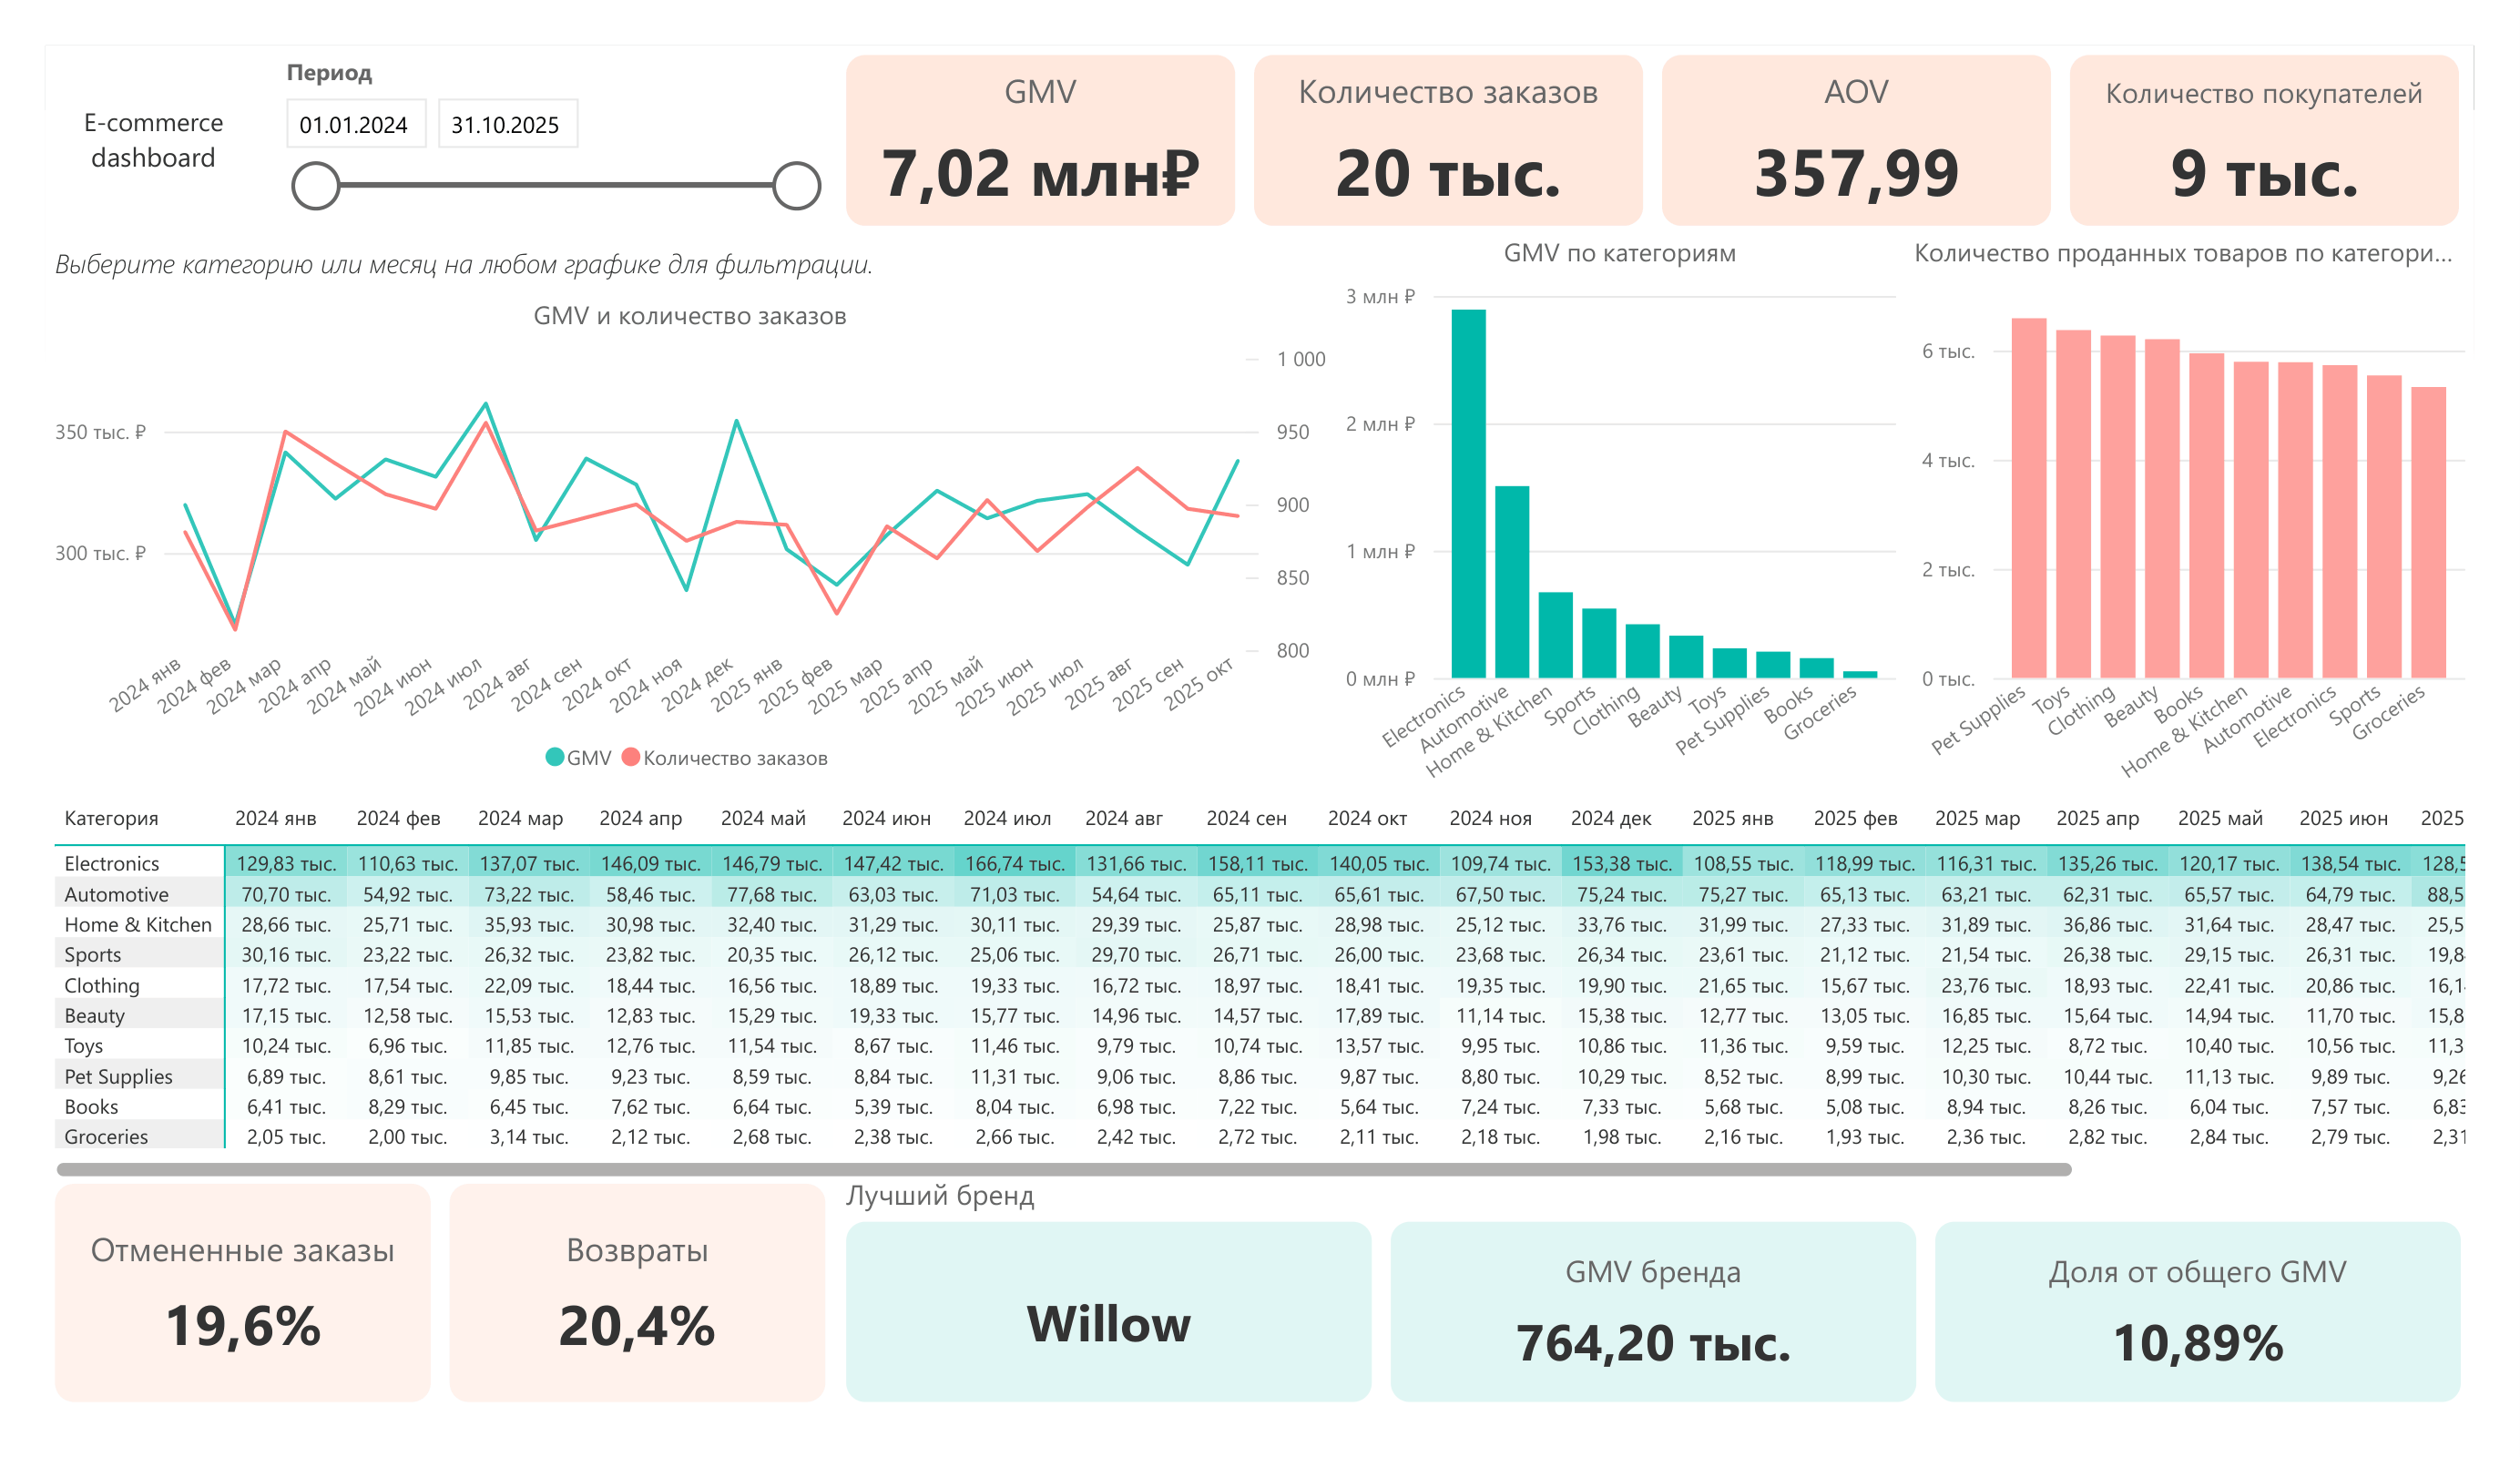

The page's visual inventory and layout, read from the dashboard file:
{"tool":"powerbi","page":{"name":"Dashboard","canvas":[1280,720],"ordinal":0},"visuals":[{"type":"cardVisual","fields":{"Data":["orders.GMV","orders.ORDERS","orders.AOV","products.AC"]},"box":[417,0,863.2,100.3],"z":0},{"type":"lineChart","title":"GMV и количество заказов","fields":{"Y2":["CountNonNull(orders.order_id)"],"Y":["orders.GMV"],"Category":["Calendar.YearMonth"]},"box":[0,127.8,680.2,264.9],"z":1000},{"type":"clusteredColumnChart","title":"GMV по категориям","fields":{"Category":["products.category"],"Y":["orders.GMV"]},"box":[680.2,100.3,300,300],"z":2000},{"type":"textbox","box":[0,25.2,113.9,50.5],"z":3000},{"type":"clusteredColumnChart","title":"Количество проданных товаров по категориям","fields":{"Category":["products.category"],"Y":["Sum(order_items.quantity)"]},"box":[980.2,100.3,300,300],"z":4000},{"type":"pivotTable","fields":{"Rows":["products.category"],"Values":["orders.GMV"],"Columns":["Calendar.YearMonth"]},"box":[0,392.7,1280.2,209.7],"z":5000},{"type":"slicer","fields":{"Values":["Calendar.Date"]},"box":[113.6,0,303.3,100.3],"z":6000},{"type":"cardVisual","fields":{"Data":["orders.Cancelled Orders","orders.Returned Orders"]},"box":[0,594.8,416.6,125.3],"z":7000},{"type":"textbox","box":[0,100.3,680.2,34.3],"z":8000},{"type":"cardVisual","title":"Лучший бренд","fields":{"Data":["products.Top Brand","products.Top Brand GMV","products.Top Brand Share"]},"box":[416.6,594.8,863.4,125.3],"z":9001}]}

Visuals, with their boxes on the page's 1280x720 design canvas (x1, y1, x2, y2). These are canvas units, not pixel positions in the 2520x1457 screenshot, which may show the page scaled, cropped or inside an application window:
cardVisual - orders.GMV x orders.ORDERS: BBox(417, 0, 1280, 100)
"GMV и количество заказов" lineChart: BBox(0, 128, 680, 393)
"GMV по категориям" clusteredColumnChart: BBox(680, 100, 980, 400)
textbox: BBox(0, 25, 114, 76)
"Количество проданных товаров по категориям" clusteredColumnChart: BBox(980, 100, 1280, 400)
pivotTable - products.category x orders.GMV: BBox(0, 393, 1280, 602)
slicer - Calendar.Date: BBox(114, 0, 417, 100)
cardVisual - orders.Cancelled Orders x orders.Returned Orders: BBox(0, 595, 417, 720)
textbox: BBox(0, 100, 680, 135)
"Лучший бренд" cardVisual: BBox(417, 595, 1280, 720)
